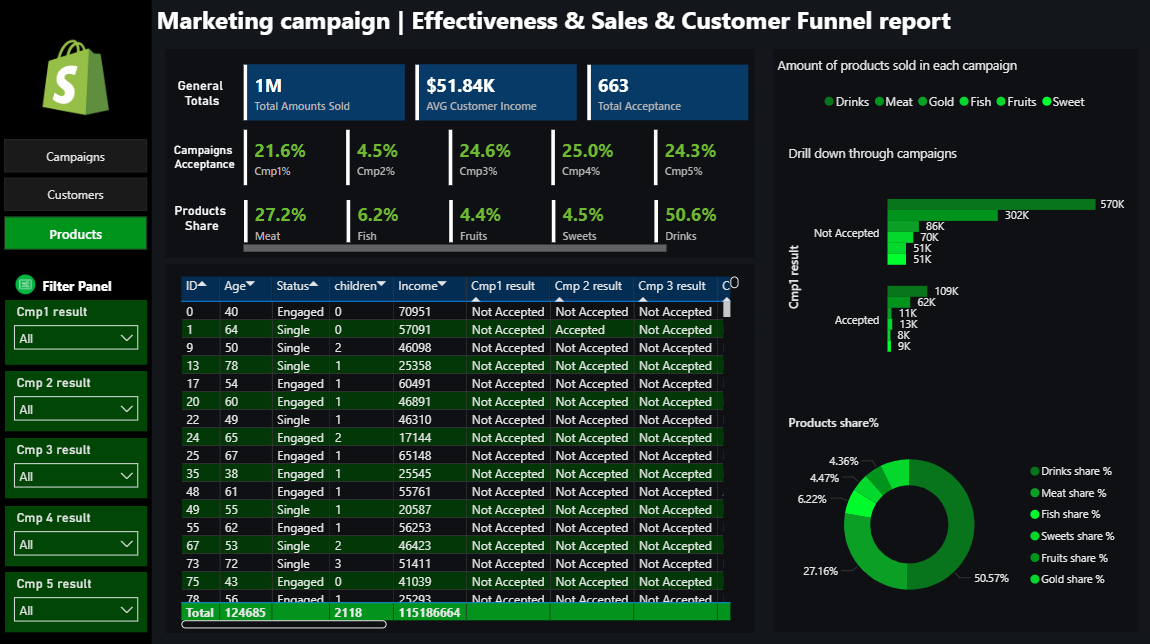

Layout of this report page (visuals, bound fields, positions):
{"tool":"powerbi","page":{"name":"Products","canvas":[1280,720],"ordinal":2},"visuals":[{"type":"shape","box":[0,0,169.7,720.6],"z":0},{"type":"textbox","box":[169.7,0,1080.1,57.1],"z":1000},{"type":"shape","box":[184.8,57.1,655.1,232],"z":2000},{"type":"cardVisual","fields":{"Data":["DimProducts.Total Amounts","DimCustomer.AVG Income","DimCampains.Total acceptance"]},"box":[267.1,68.9,572.8,72.2],"z":3000},{"type":"card","fields":{"Values":["FactCustomerPurchases.General totals"]},"box":[184.8,72.2,82.3,68.9],"z":4000},{"type":"cardVisual","fields":{"Data":["DimCampains.Cmp1 Acceptance%","DimCampains.Cmp2 Acceptance%","DimCampains.Cmp3 Acceptance%","DimCampains.Cmp4 Acceptance%","DimCampains.Cmp5 Acceptance%"]},"box":[267.1,141.1,572.8,72.2],"z":5000},{"type":"card","fields":{"Values":["DimCampains.Campaign Acceptance %"]},"box":[171,142.8,115,68.9],"z":6000},{"type":"cardVisual","fields":{"Data":["DimProducts.Meat share %","DimProducts.Fish share %","DimProducts.Fruits share %","DimProducts.Sweets share %","DimProducts.Drinks share %","DimProducts.Gold share %"]},"box":[267.1,218.4,572.8,70.6],"z":7000},{"type":"card","fields":{"Values":["DimProducts.Products Share"]},"box":[184.8,211.7,82.3,68.9],"z":8000},{"type":"shape","box":[184.8,295.6,655.1,409.9],"z":9000},{"type":"shape","box":[860.1,57.1,406.5,648.4],"z":10000},{"type":"textbox","box":[860.1,60.5,277.2,38.6],"z":11000},{"type":"image","box":[43.7,31.9,84,112.5],"z":12000},{"type":"slicer","fields":{"Values":["DimCampains.Cmp1 result"]},"box":[6.7,336,157.9,72.2],"z":13000},{"type":"slicer","fields":{"Values":["DimCampains.Cmp 2 result"]},"box":[6.7,414.6,157.9,67.2],"z":14000},{"type":"slicer","fields":{"Values":["DimCampains.Cmp 3 result"]},"box":[6.7,488.5,157.9,67.2],"z":15000},{"type":"slicer","fields":{"Values":["DimCampains.Cmp 4 result"]},"box":[6.7,564.1,157.9,67.2],"z":16000},{"type":"slicer","fields":{"Values":["DimCampains.Cmp 5 result"]},"box":[6.7,638.3,157.9,67.2],"z":17000},{"type":"textbox","box":[43.7,304,97.4,42],"z":18000},{"type":"image","box":[13.4,302.4,31.9,31.9],"z":19000},{"type":"clusteredBarChart","fields":{"Y":["Sum(DimProducts.Amount_Drinks)","Sum(DimProducts.Amount_Meat)","Sum(DimProducts.Amount_Gold)","Sum(DimProducts.Amount_Fish)","Sum(DimProducts.Amount_Fruits)","Sum(DimProducts.Amount_Sweet)"],"Category":["DimCampains.Cmp1 result","DimCampains.Cmp 2 result","DimCampains.Cmp 3 result","DimCampains.Cmp 4 result","DimCampains.Cmp 5 result"]},"box":[871.8,94.1,383,394.8],"z":20000},{"type":"textbox","box":[871.8,157.9,277.2,38.6],"z":21000},{"type":"donutChart","title":"Products share%","fields":{"Y":["DimProducts.Drinks share %","DimProducts.Meat share %","DimProducts.Fish share %","DimProducts.Sweets share %","DimProducts.Fruits share %","DimProducts.Gold share %"]},"box":[871.8,461.9,381.3,228.5],"z":22000},{"type":"tableEx","fields":{"Values":["DimCustomer.ID","Sum(DimCustomer.Age)","DimCustomer.Relationship_Status","Sum(DimCustomer.No.Of_Children)","Sum(DimCustomer.Income)","DimCampains.Cmp1 result","DimCampains.Cmp 2 result","DimCampains.Cmp 3 result","DimCampains.Cmp 4 result","DimCampains.Cmp 5 result","Sum(DimProducts.Amount_Drinks)","Sum(DimProducts.Amount_Meat)"]},"box":[196.5,304,629.9,401.5],"z":23000},{"type":"pageNavigator","box":[5,156.2,159.6,124.3],"z":24000}]}

Visuals, with their boxes on the page's 1280x720 design canvas (x1, y1, x2, y2). These are canvas units, not pixel positions in the 1150x644 screenshot, which may show the page scaled, cropped or inside an application window:
shape: Rect(0, 0, 170, 721)
textbox: Rect(170, 0, 1250, 57)
shape: Rect(185, 57, 840, 289)
cardVisual - DimProducts.Total Amounts x DimCustomer.AVG Income: Rect(267, 69, 840, 141)
card - FactCustomerPurchases.General totals: Rect(185, 72, 267, 141)
cardVisual - DimCampains.Cmp1 Acceptance% x DimCampains.Cmp2 Acceptance%: Rect(267, 141, 840, 213)
card - DimCampains.Campaign Acceptance %: Rect(171, 143, 286, 212)
cardVisual - DimProducts.Meat share % x DimProducts.Fish share %: Rect(267, 218, 840, 289)
card - DimProducts.Products Share: Rect(185, 212, 267, 281)
shape: Rect(185, 296, 840, 706)
shape: Rect(860, 57, 1267, 706)
textbox: Rect(860, 60, 1137, 99)
image: Rect(44, 32, 128, 144)
slicer - DimCampains.Cmp1 result: Rect(7, 336, 165, 408)
slicer - DimCampains.Cmp 2 result: Rect(7, 415, 165, 482)
slicer - DimCampains.Cmp 3 result: Rect(7, 488, 165, 556)
slicer - DimCampains.Cmp 4 result: Rect(7, 564, 165, 631)
slicer - DimCampains.Cmp 5 result: Rect(7, 638, 165, 706)
textbox: Rect(44, 304, 141, 346)
image: Rect(13, 302, 45, 334)
clusteredBarChart - Sum(DimProducts.Amount_Drinks) x Sum(DimProducts.Amount_Meat): Rect(872, 94, 1255, 489)
textbox: Rect(872, 158, 1149, 196)
"Products share%" donutChart: Rect(872, 462, 1253, 690)
tableEx - DimCustomer.ID x Sum(DimCustomer.Age): Rect(196, 304, 826, 706)
pageNavigator: Rect(5, 156, 165, 280)
